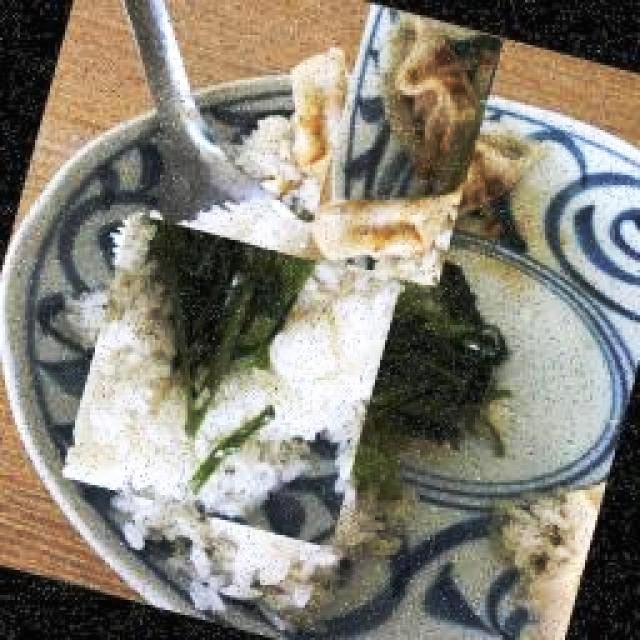fried_dumplings: (399, 23, 477, 151), (323, 193, 462, 259)
rice: (268, 260, 400, 450)
